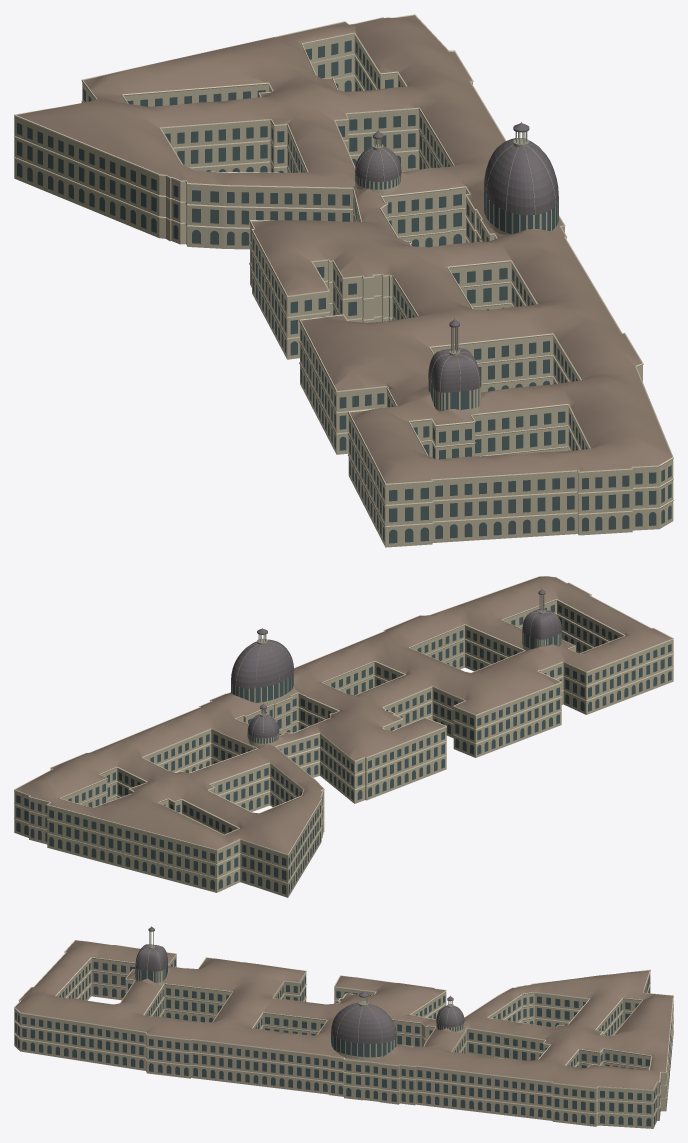
The model's file is grand-hotel-dieu-lyon-near.glb.
The picture shows the model from 3 angles, top to bottom: view 1: azimuth 30°, elevation 25°; view 2: azimuth 150°, elevation 25°; view 3: azimuth 270°, elevation 25°; orthographic projection. The views are drawn at different scales.
Parts seen in each view (by area): view 1: grand-hotel-dieu-lyon-0-roof, grand-hotel-dieu-lyon-0-stone, grand-hotel-dieu-lyon-0-glass, grand-hotel-dieu-lyon-0-frame, grand-hotel-dieu-lyon-0-slate, grand-hotel-dieu-lyon-0-metal; view 2: grand-hotel-dieu-lyon-0-roof, grand-hotel-dieu-lyon-0-stone, grand-hotel-dieu-lyon-0-glass, grand-hotel-dieu-lyon-0-frame, grand-hotel-dieu-lyon-0-slate, grand-hotel-dieu-lyon-0-metal; view 3: grand-hotel-dieu-lyon-0-roof, grand-hotel-dieu-lyon-0-stone, grand-hotel-dieu-lyon-0-glass, grand-hotel-dieu-lyon-0-frame, grand-hotel-dieu-lyon-0-slate, grand-hotel-dieu-lyon-0-metal.
Part boxes in pixels (x1,y1,x2,y2): grand-hotel-dieu-lyon-0-roof: [17, 15, 672, 483]; grand-hotel-dieu-lyon-0-stone: [14, 34, 673, 547]; grand-hotel-dieu-lyon-0-glass: [17, 40, 671, 543]; grand-hotel-dieu-lyon-0-frame: [14, 14, 673, 526]; grand-hotel-dieu-lyon-0-slate: [355, 123, 558, 392]; grand-hotel-dieu-lyon-0-metal: [355, 122, 555, 391]; grand-hotel-dieu-lyon-0-roof: [15, 576, 671, 854]; grand-hotel-dieu-lyon-0-stone: [14, 600, 673, 897]; grand-hotel-dieu-lyon-0-glass: [16, 604, 671, 894]; grand-hotel-dieu-lyon-0-frame: [14, 576, 673, 883]; grand-hotel-dieu-lyon-0-slate: [231, 589, 561, 738]; grand-hotel-dieu-lyon-0-metal: [233, 589, 561, 737]; grand-hotel-dieu-lyon-0-roof: [15, 940, 672, 1089]; grand-hotel-dieu-lyon-0-stone: [14, 955, 673, 1128]; grand-hotel-dieu-lyon-0-glass: [15, 959, 671, 1126]; grand-hotel-dieu-lyon-0-frame: [14, 940, 673, 1116]; grand-hotel-dieu-lyon-0-slate: [135, 927, 464, 1043]; grand-hotel-dieu-lyon-0-metal: [136, 926, 464, 1042].
Bounding box in the file's own units: 150 × 46 × 278.
